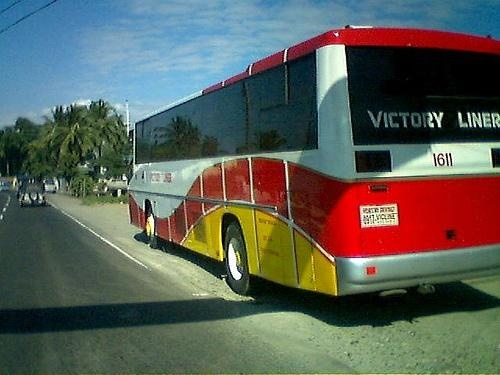bus: (128, 27, 500, 303)
car: (19, 181, 48, 211)
